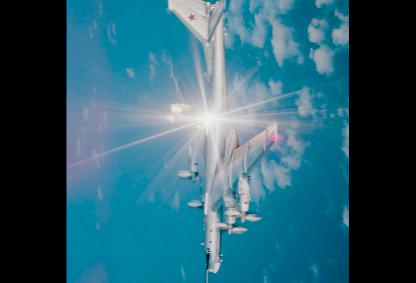Su57: (165, 0, 278, 282)
